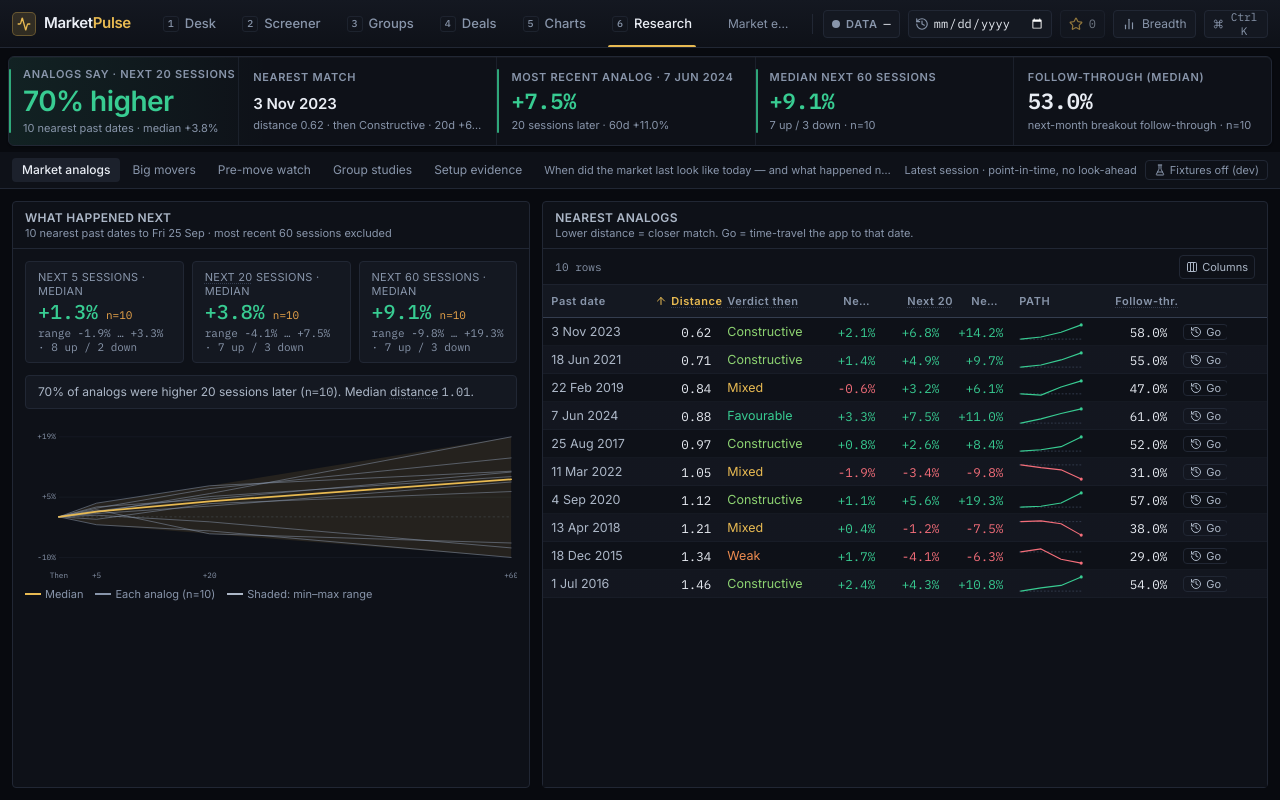
Scenario: Research tab › market analogs: medians with n, spread, agreement and a time-travel link per analog
Expected: the text "+3.8%" is shown, [205, 298, 265, 325]
Expected: the text "n=10" is shown, [192, 261, 351, 363]
Click the button "Go" in the row of "+2.1%".
click(1206, 332)  # box [1183, 324, 1228, 340]
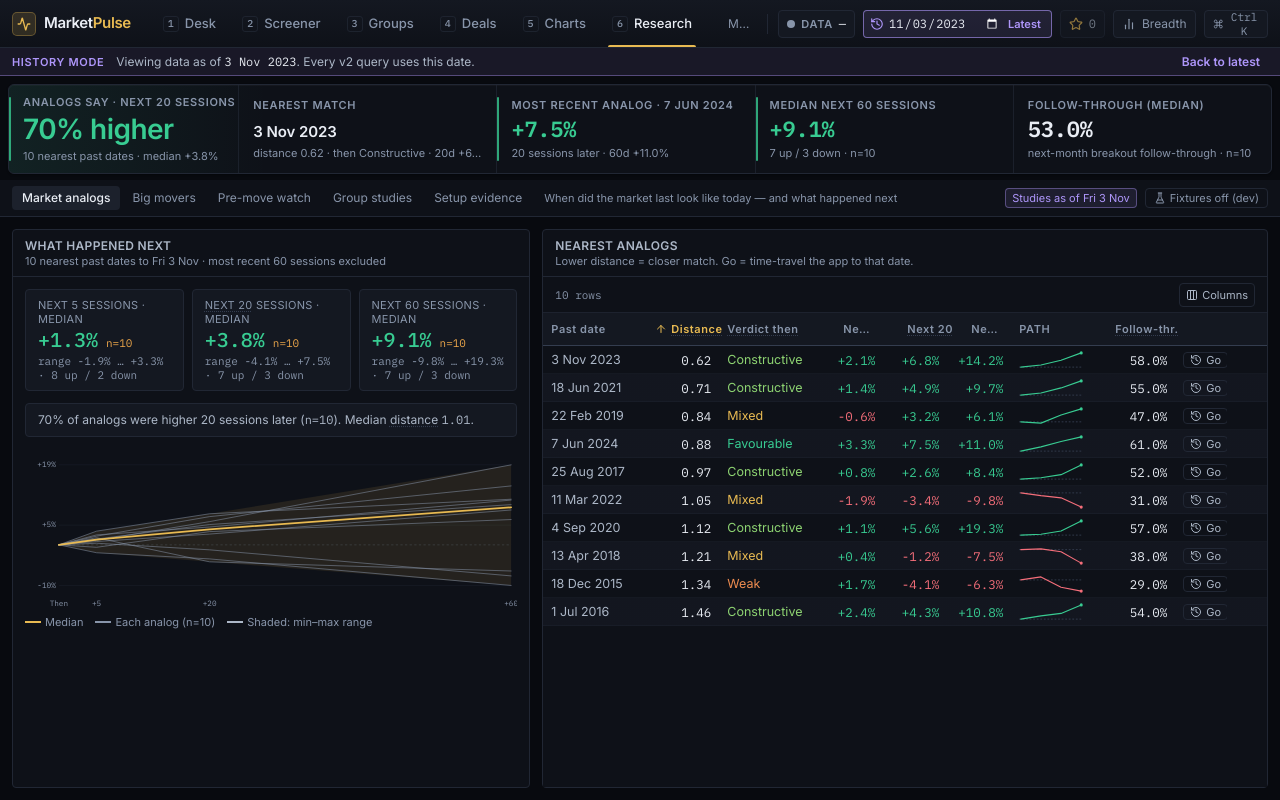
Expected: the text "Studies as of Fri 3 Nov" is shown, [1005, 188, 1137, 208]
